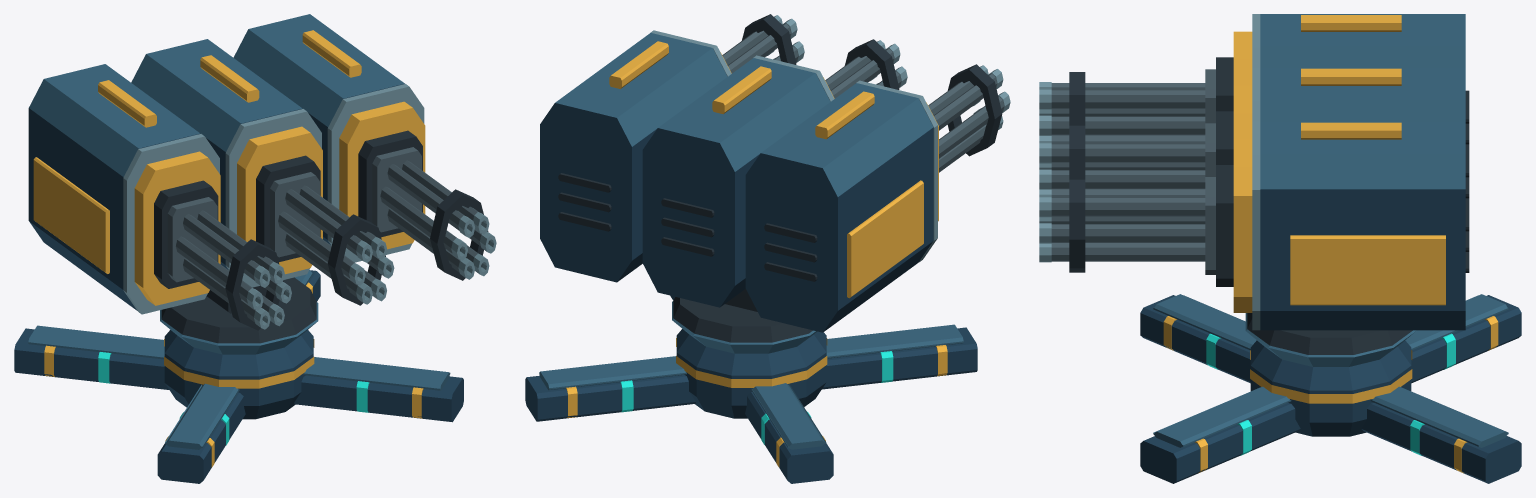
The model's file is MachineGunLevel3.obj.
3 views of the same model, side by side, from view 1: azimuth 30°, elevation 25°; view 2: azimuth 150°, elevation 25°; view 3: azimuth 270°, elevation 25° (orthographic). The views are drawn at different scales.
Parts seen in each view (by area): view 1: UpperArmorLeft, UpperArmorCenter, UpperArmorRight, HousingLeft, CentralBase, GoldMantletLeft, GoldSideArmor-1, Turntable, Outrigger0, GoldMantletRight, GoldMantletCenter, Outrigger2 (+35 smaller); view 2: HousingLeft, HousingCenter, HousingRight, UpperArmorLeft, UpperArmorCenter, UpperArmorRight, CentralBase, GoldSideArmor-1, Outrigger1, Outrigger3, Turntable, Outrigger2 (+20 smaller); view 3: HousingRight, UpperArmorRight, GoldSideArmor1, UpperArmorCenter, UpperArmorLeft, CentralBase, Outrigger1, Outrigger0, GoldMantletRight, Outrigger3, Outrigger2, Turntable (+34 smaller).
Boxes of the visible parts, x1,y1,x2,y2 form: UpperArmorLeft: [29, 64, 199, 176]; UpperArmorCenter: [131, 39, 302, 151]; UpperArmorRight: [233, 14, 404, 126]; HousingLeft: [28, 108, 200, 310]; CentralBase: [164, 330, 313, 419]; GoldMantletLeft: [134, 151, 220, 305]; GoldSideArmor-1: [33, 157, 109, 273]; Turntable: [161, 277, 316, 343]; Outrigger0: [294, 375, 463, 422]; GoldMantletRight: [339, 101, 425, 249]; GoldMantletCenter: [237, 126, 322, 274]; Outrigger2: [14, 328, 168, 389]; HousingLeft: [745, 127, 933, 332]; HousingCenter: [642, 128, 759, 307]; HousingRight: [540, 103, 656, 282]; UpperArmorLeft: [761, 83, 933, 196]; UpperArmorCenter: [658, 58, 830, 171]; UpperArmorRight: [555, 33, 727, 146]; CentralBase: [676, 329, 826, 418]; GoldSideArmor-1: [847, 180, 923, 298]; Outrigger1: [525, 375, 695, 421]; Outrigger3: [822, 327, 977, 389]; Turntable: [673, 297, 812, 342]; Outrigger2: [745, 392, 833, 483]; HousingRight: [1260, 189, 1465, 330]; UpperArmorRight: [1260, 121, 1465, 189]; GoldSideArmor1: [1290, 235, 1445, 305]; UpperArmorCenter: [1260, 67, 1465, 121]; UpperArmorLeft: [1260, 14, 1465, 67]; CentralBase: [1250, 340, 1411, 436]; Outrigger1: [1361, 403, 1521, 483]; Outrigger0: [1140, 403, 1300, 483]; GoldMantletRight: [1233, 139, 1252, 312]; Outrigger3: [1140, 295, 1250, 383]; Outrigger2: [1411, 295, 1521, 383]; Turntable: [1247, 313, 1412, 354].
Bounding box in the file's own units: 2.16 × 2.1 × 2.73.
